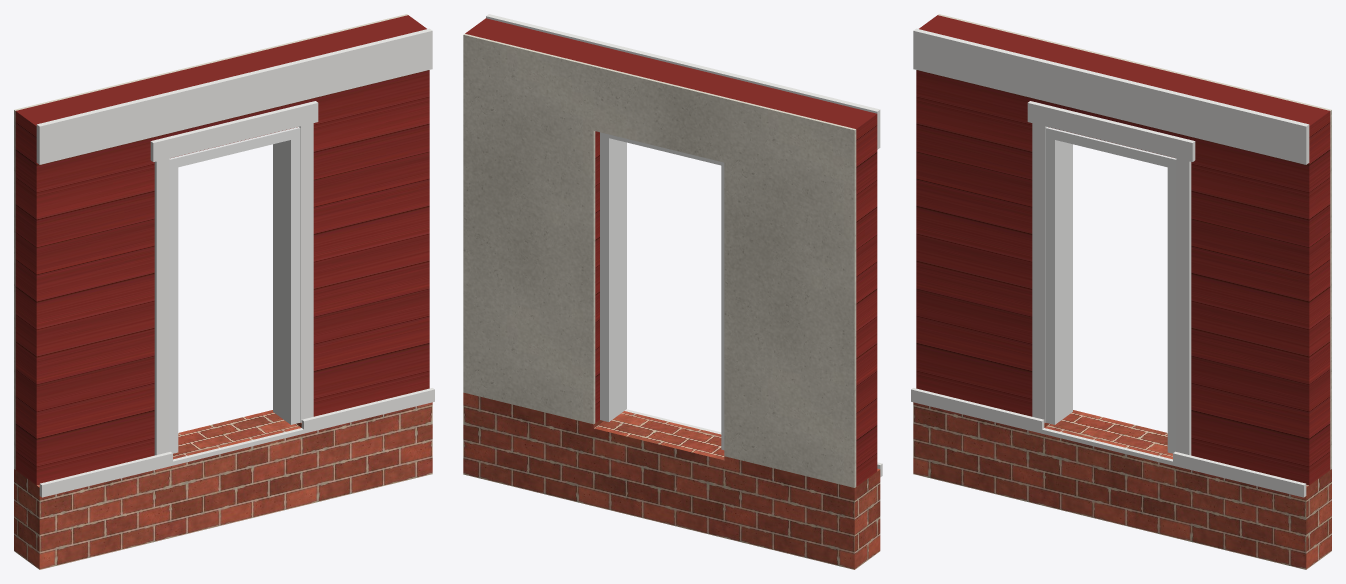
File: vest_front.glb
3 views of the same model, side by side, from view 1: azimuth 30°, elevation 25°; view 2: azimuth 150°, elevation 25°; view 3: azimuth 330°, elevation 25° (orthographic).
Visible parts, largest first — view 1: vest_front_siding, vest_front_trim, vest_front_brick, vest_front_frame, vest_front_plaster; view 2: vest_front_plaster, vest_front_brick, vest_front_siding, vest_front_frame, vest_front_trim; view 3: vest_front_siding, vest_front_trim, vest_front_brick, vest_front_frame, vest_front_plaster.
Boxes of the visible parts, bbox=[...] form: vest_front_siding: bbox=[15, 15, 429, 485]; vest_front_trim: bbox=[36, 28, 434, 497]; vest_front_brick: bbox=[14, 402, 432, 569]; vest_front_frame: bbox=[169, 127, 300, 453]; vest_front_plaster: bbox=[14, 14, 407, 469]; vest_front_plaster: bbox=[463, 34, 856, 487]; vest_front_brick: bbox=[463, 392, 880, 569]; vest_front_siding: bbox=[465, 18, 877, 486]; vest_front_frame: bbox=[600, 132, 724, 449]; vest_front_trim: bbox=[486, 14, 882, 477]; vest_front_siding: bbox=[916, 15, 1330, 485]; vest_front_trim: bbox=[911, 28, 1309, 497]; vest_front_brick: bbox=[913, 402, 1331, 569]; vest_front_frame: bbox=[1045, 127, 1176, 453]; vest_front_plaster: bbox=[938, 14, 1331, 469].
Size of the model in its own units: 3 by 3.23 by 0.37.
6 materials, 3 textured.
